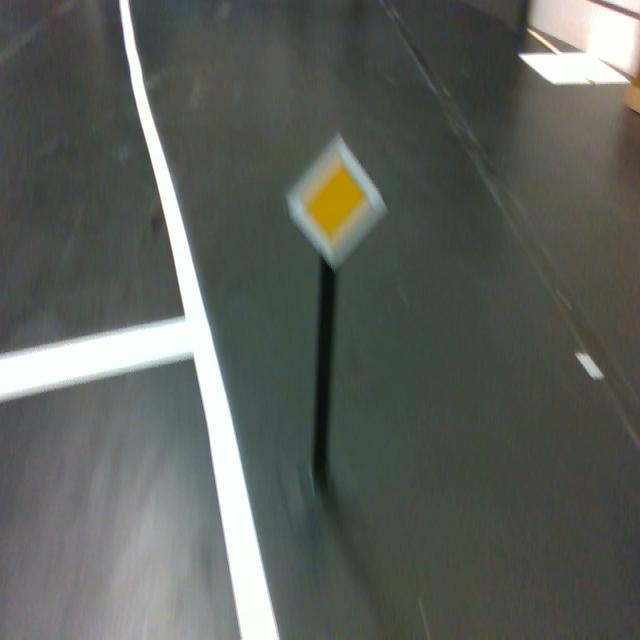priority-sign: (284, 129, 391, 274)
